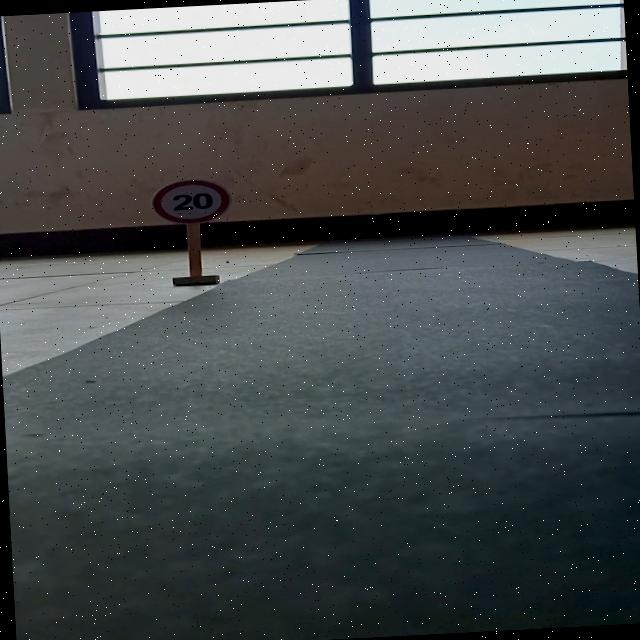Speed20: (142, 172, 242, 230)
